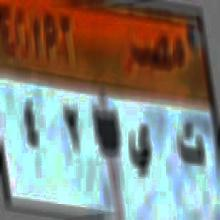2: (60, 95, 86, 159)
4: (21, 95, 41, 160)
thaa: (177, 121, 204, 177)
yaa: (129, 120, 154, 184)
